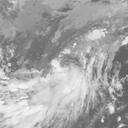cyclone: (40, 51, 100, 113)
